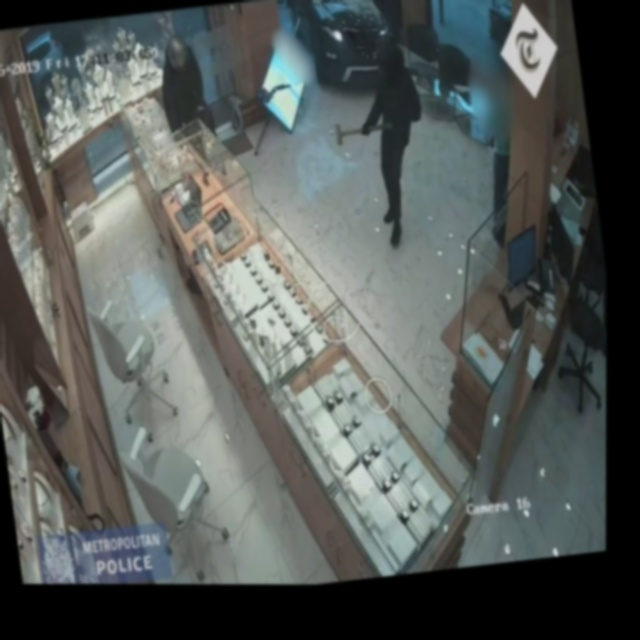gun: (318, 106, 411, 154)
